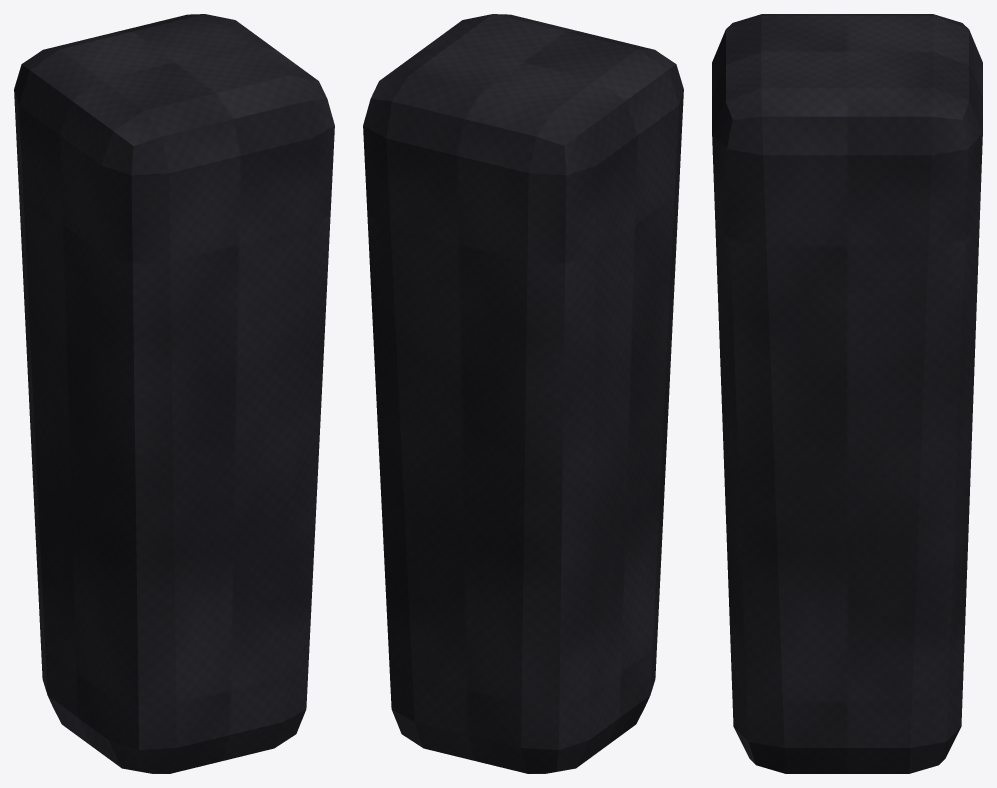
Rendered from Zombie_ArmUpperL.obj.
The picture shows the model from 3 angles, left to right: view 1: azimuth 30°, elevation 25°; view 2: azimuth 150°, elevation 25°; view 3: azimuth 270°, elevation 25°; orthographic projection. The views are drawn at different scales.
Size of the model in its own units: 0.1326 by 0.375 by 0.1326.
1 material, 1 textured.
